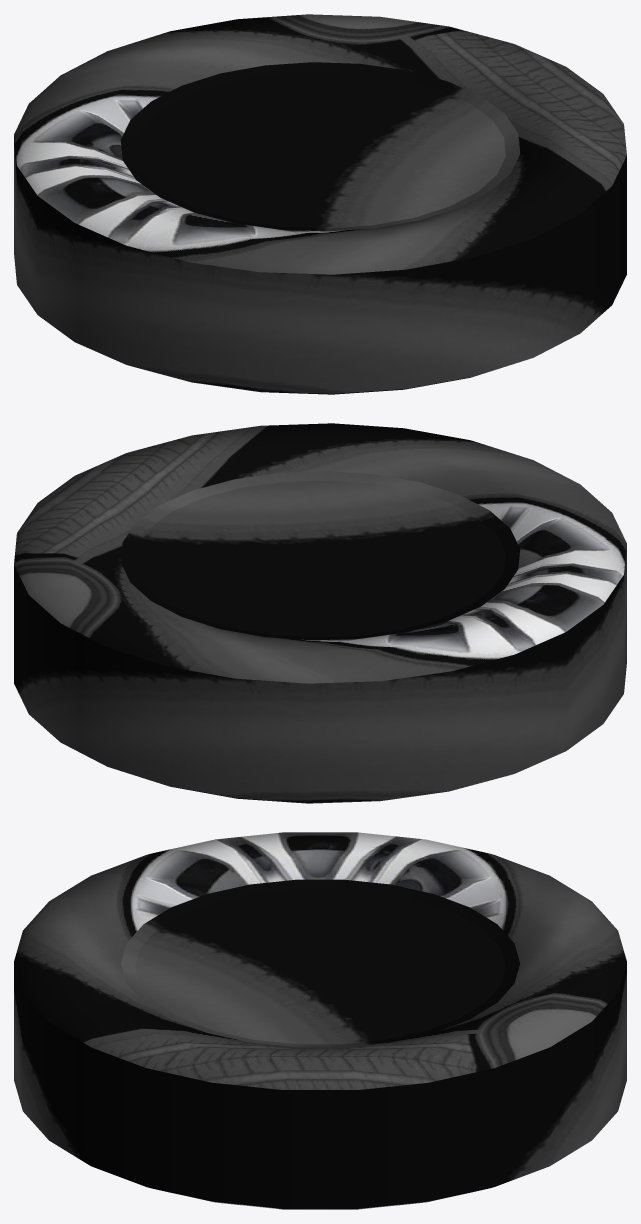
Rendered from Tyre.glb.
3 renders of one model, top to bottom at view 1: azimuth 30°, elevation 25°; view 2: azimuth 150°, elevation 25°; view 3: azimuth 270°, elevation 25°, orthographic.
Visible parts, largest first — view 1: Tyre; view 2: Tyre; view 3: Tyre.
Part boxes in pixels (x1,y1,x2,y2): Tyre: (14, 14, 626, 394); Tyre: (14, 423, 626, 803); Tyre: (14, 832, 626, 1209).
Bounding box in the file's own units: 4.96 × 1.26 × 4.99.
Materials: 1 (1 with a texture image).
